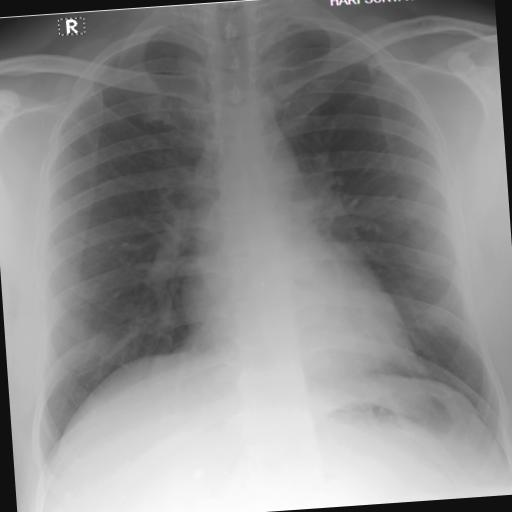kardiomegali: (3, 0, 512, 484)
